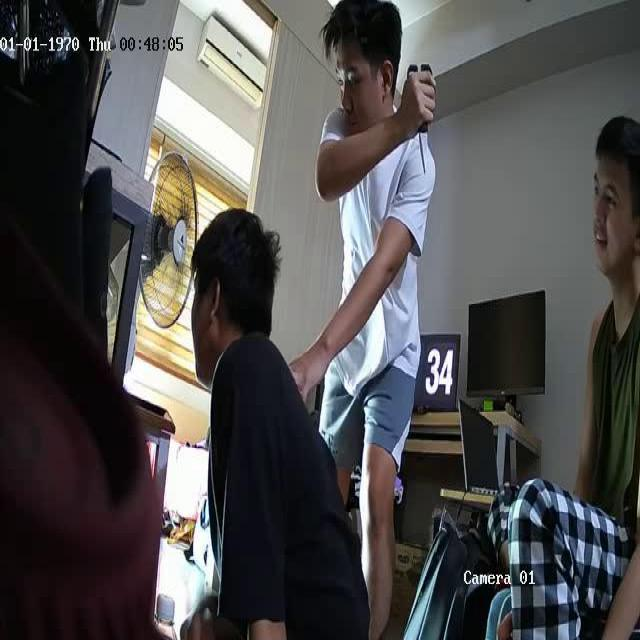scissor: (408, 63, 433, 173)
